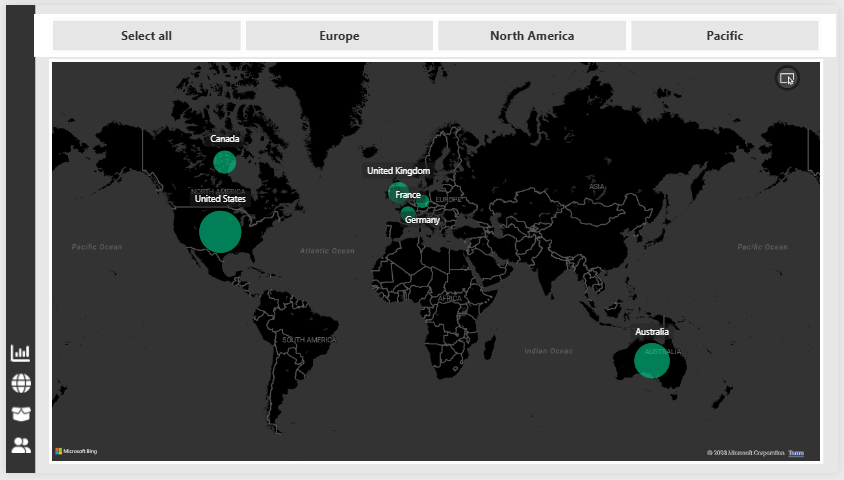

Layout of this report page (visuals, bound fields, positions):
{"tool":"powerbi","page":{"name":"Map","canvas":[1280,720],"ordinal":1},"visuals":[{"type":"shape","box":[0,0,45,720],"z":0},{"type":"actionButton","box":[2.5,516.7,45.6,37.8],"z":0,"group":"g1"},{"type":"map","fields":{"Category":["Territory Lookup.Country"],"Size":["Measure Table.Total Orders"]},"box":[65.6,82.5,1191.3,622.8],"z":1000},{"type":"actionButton","box":[3.3,563.4,45.6,37.8],"z":1000,"group":"g1"},{"type":"slicer","fields":{"Values":["Territory Lookup.Continent"]},"box":[43,13.6,1234.3,65.6],"z":2000},{"type":"actionButton","box":[3.3,611.1,45.6,37.8],"z":2000,"group":"g1"},{"type":"group","id":"g1","title":"Navigation Buttons","box":[2.5,516.7,46.4,178.9],"z":3000},{"type":"actionButton","box":[3.3,657.8,45.6,37.8],"z":3000,"group":"g1"}]}

Visuals, with their boxes on the page's 1280x720 design canvas (x1, y1, x2, y2). These are canvas units, not pixel positions in the 844x480 screenshot, which may show the page scaled, cropped or inside an application window:
shape: [x1=0, y1=0, x2=45, y2=720]
actionButton: [x1=2, y1=517, x2=48, y2=554]
map - Territory Lookup.Country x Measure Table.Total Orders: [x1=66, y1=82, x2=1257, y2=705]
actionButton: [x1=3, y1=563, x2=49, y2=601]
slicer - Territory Lookup.Continent: [x1=43, y1=14, x2=1277, y2=79]
actionButton: [x1=3, y1=611, x2=49, y2=649]
"Navigation Buttons" group: [x1=2, y1=517, x2=49, y2=696]
actionButton: [x1=3, y1=658, x2=49, y2=696]
